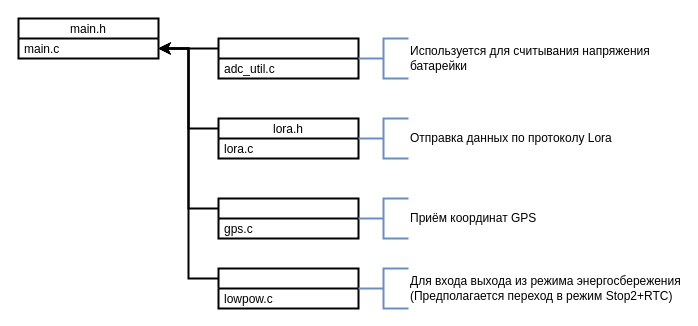
Some shapes in this 698 by 326 pixel diagram are drawn without their labels. Here are the shapes that lost their labels. From the top down, the box of each, then its label:
(217, 37, 359, 79): adc_util.h
(217, 197, 359, 239): gps.h
(217, 267, 359, 309): lowpow.h
